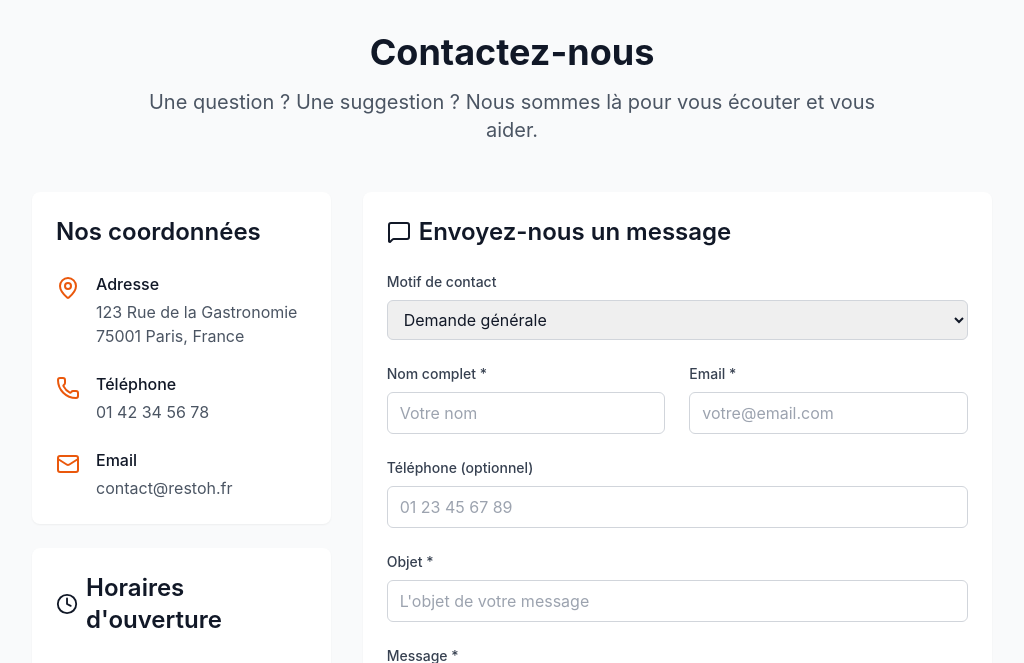
Test: Contact Component › should disable button when email format is invalid
The width and height of the screenshot is (1024, 663).
Fill form with invalid email format
Type "Jean Dupont" into the field with placeholder "Votre nom" at x=526, y=413, box x1=387 y1=392 x2=665 y2=434
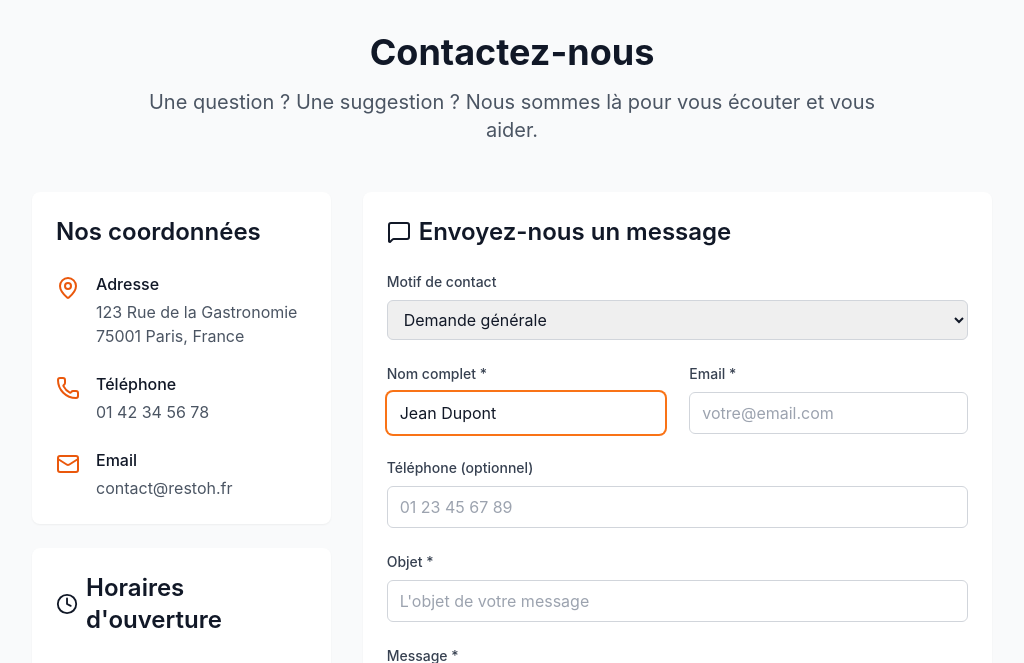
Type "invalid-email" into the field with placeholder "votre@email.com" at x=829, y=413, box x1=689 y1=392 x2=968 y2=434
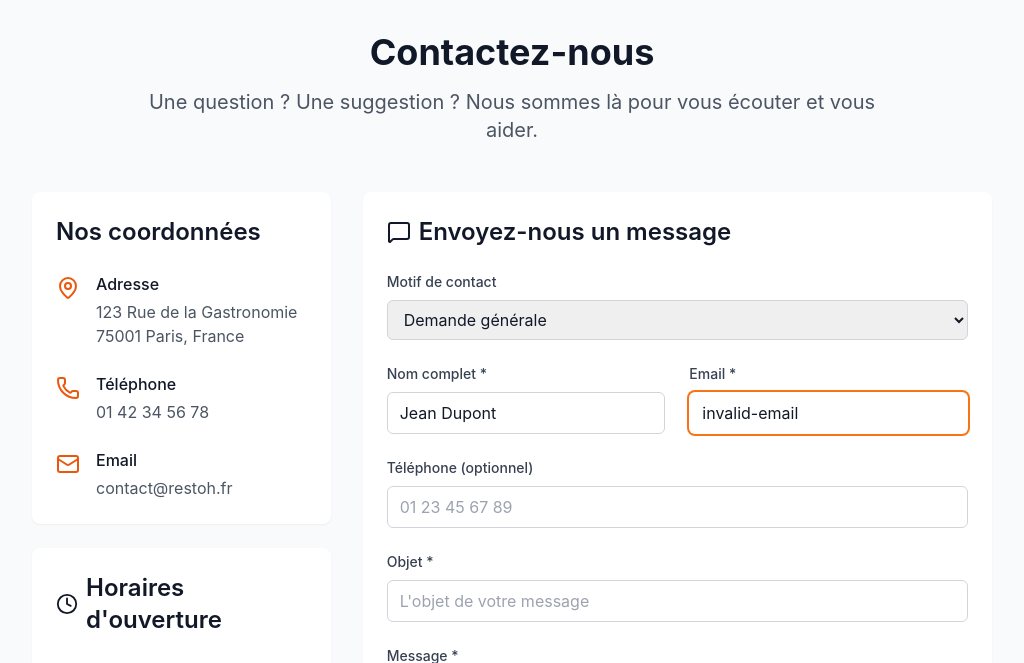
Type "Test subject" into the field with placeholder "L'objet de votre message" at x=677, y=601, box x1=387 y1=580 x2=968 y2=622
(page scrolled)
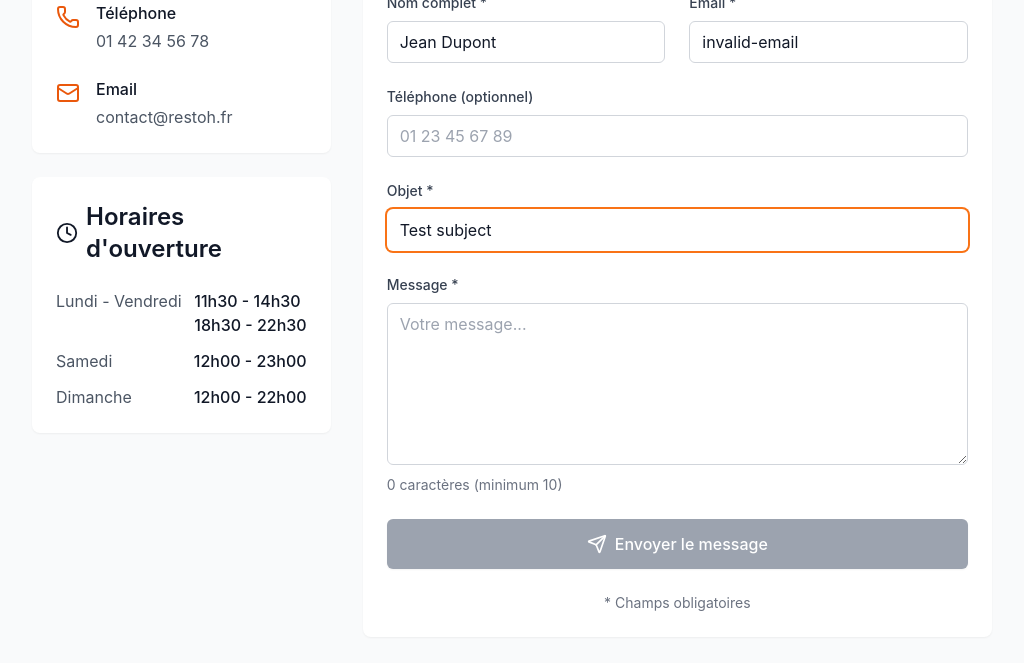
Type "Valid message with enough characters" into the text box with placeholder "Votre message..." at x=677, y=384, box x1=387 y1=303 x2=968 y2=465
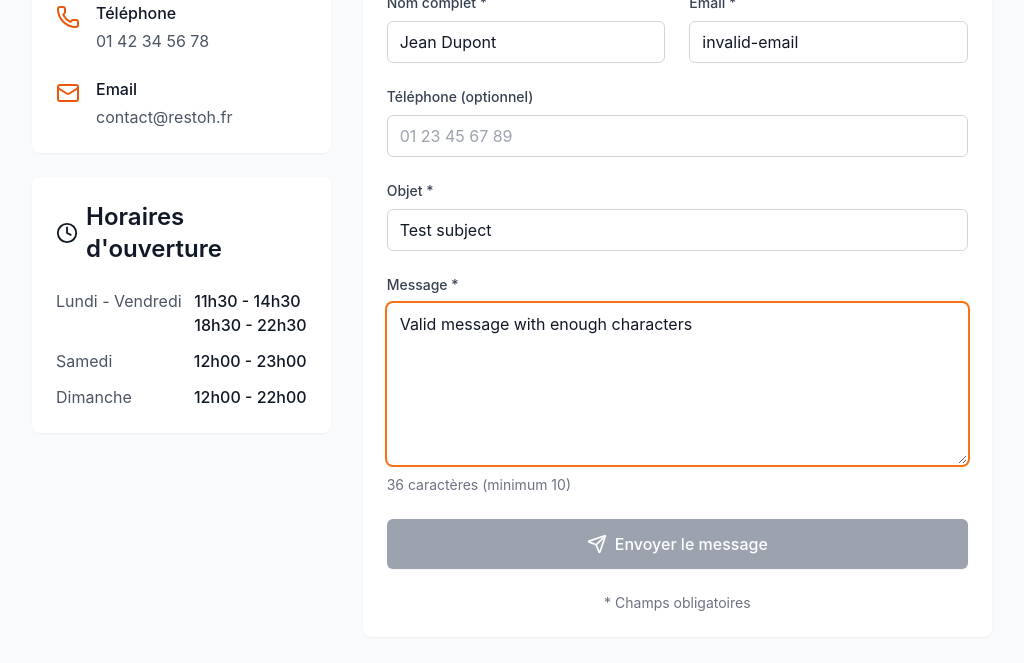
Expected: the button "Envoyer le message" is disabled, x1=387 y1=519 x2=968 y2=569
Fix email format
Replace the text in the field with placeholder "votre@email.com" below "Email *" with "jean@email.com" at x=829, y=42, box x1=689 y1=21 x2=968 y2=63
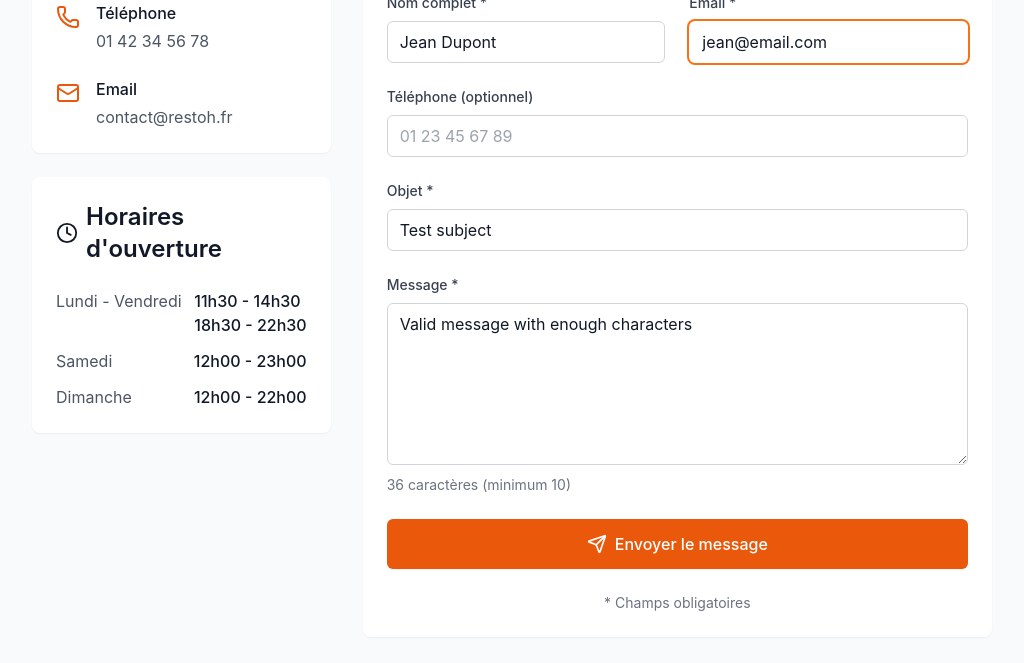
Now the button "Envoyer le message" is enabled, box x1=387 y1=519 x2=968 y2=569
